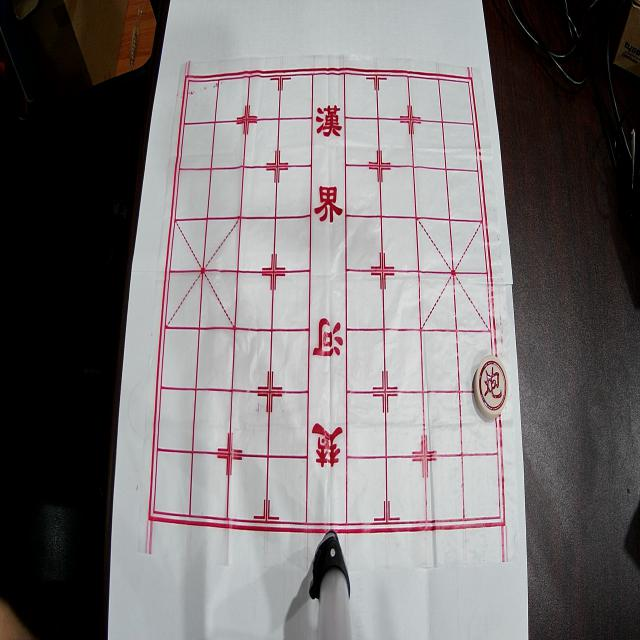red-cannon: (474, 355, 508, 420)
